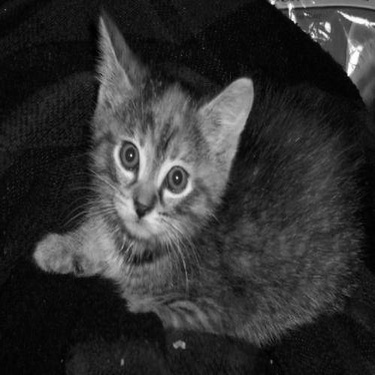cat: (32, 11, 363, 361)
